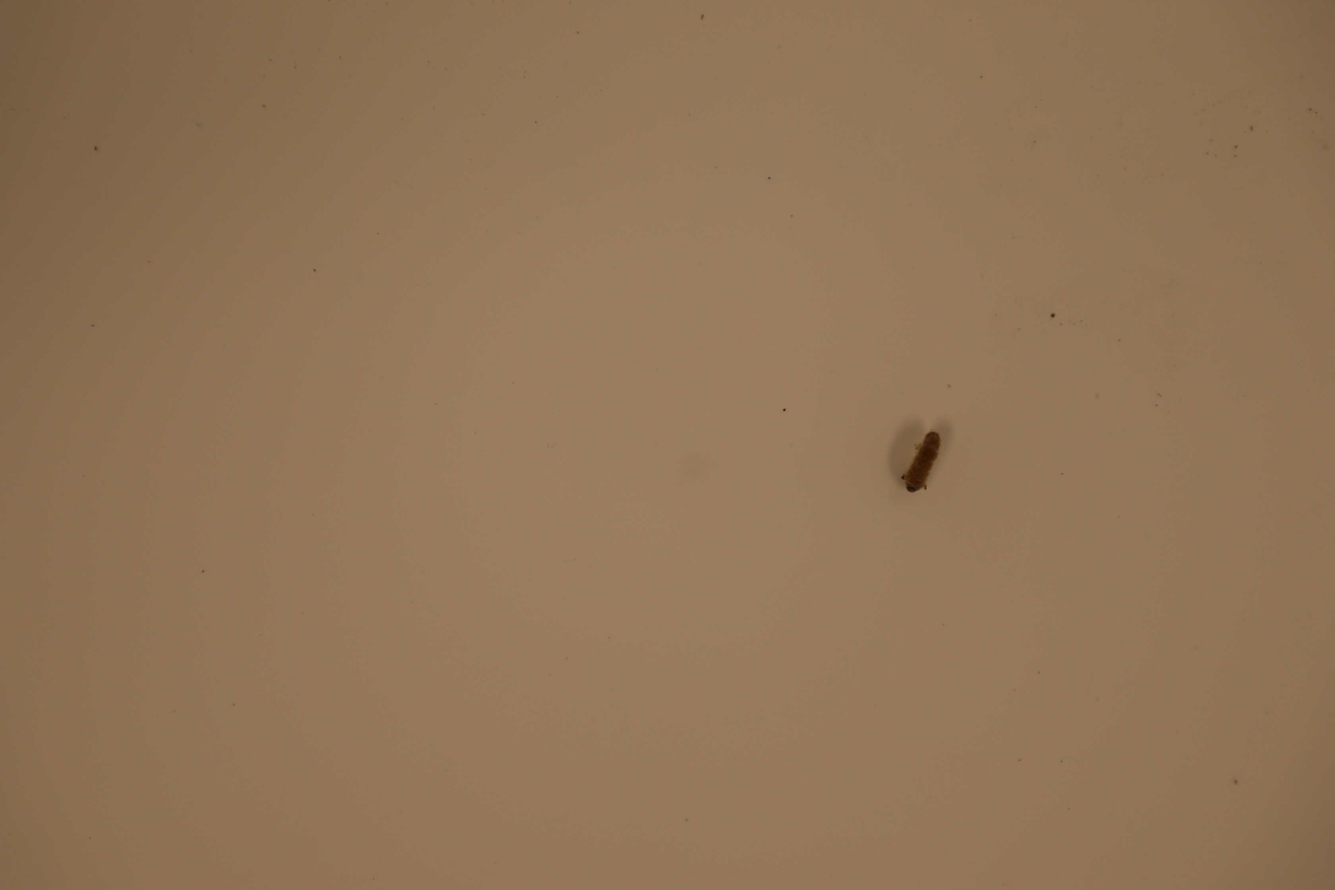Cadisfly: (893, 426, 943, 500)
